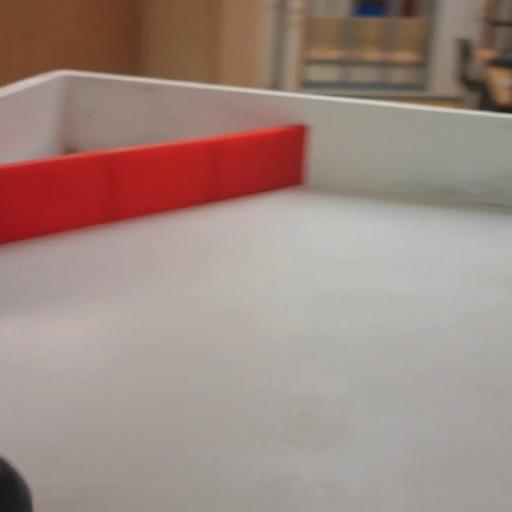dead: (0, 455, 32, 512)
